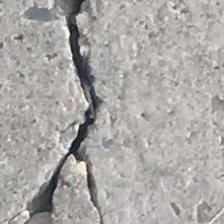Crack: (28, 0, 154, 224)
